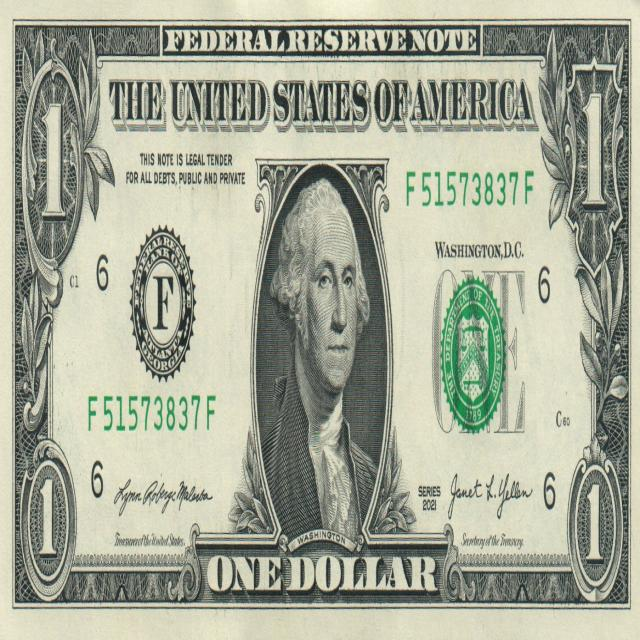SerialNumber: (406, 171, 533, 207), (89, 395, 215, 431)
